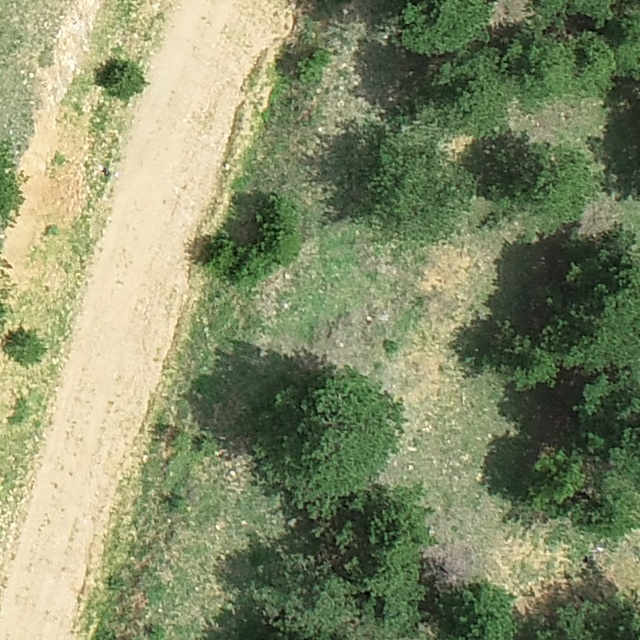unhealthy: (421, 542, 474, 589)
